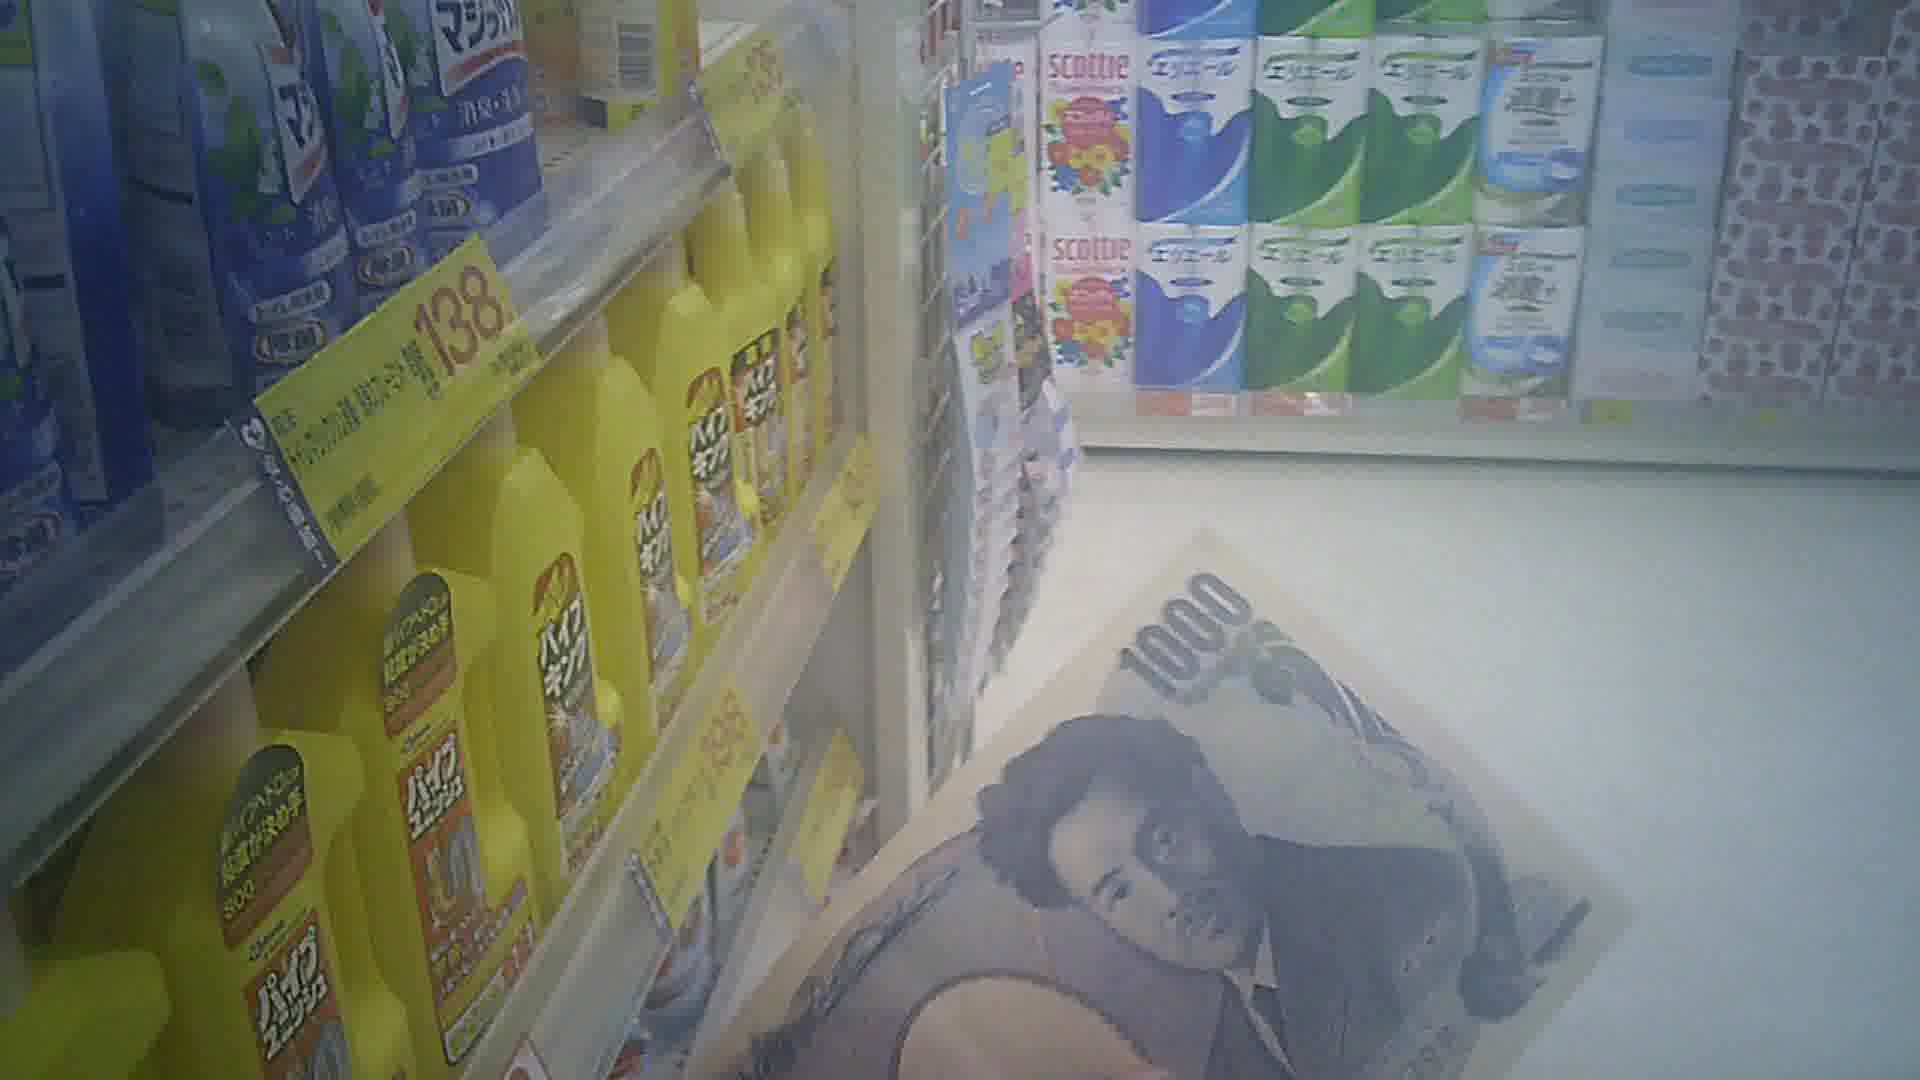1,000 Yen: (725, 498, 1593, 1079)
